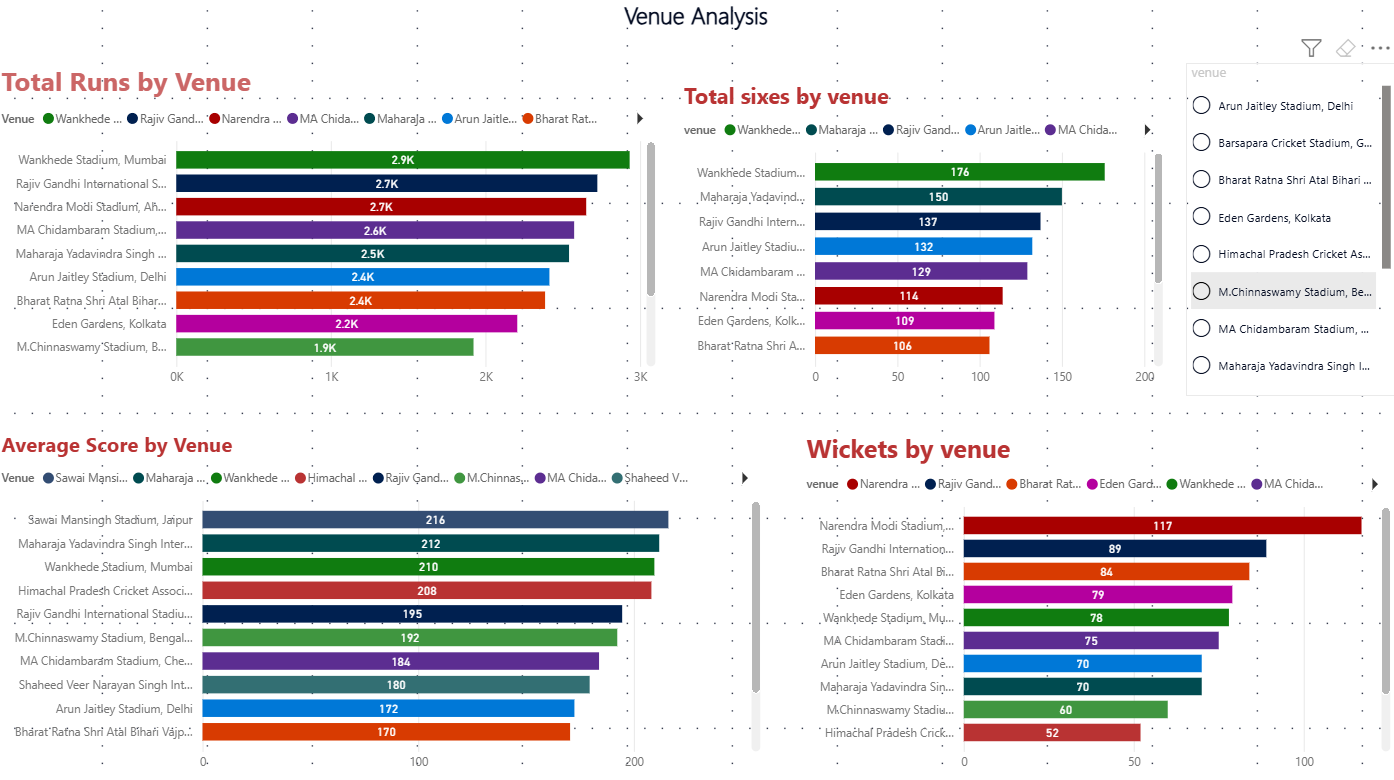

The dashboard page shown, as its layout file describes it:
{"tool":"powerbi","page":{"name":"Venue analysis","canvas":[1280,720],"ordinal":3},"visuals":[{"type":"barChart","title":"Total Runs by Venue","fields":{"Category":["ipl_2026_cleaned.venue"],"Y":["Sum(ipl_2026_cleaned.total_runs)"],"Series":["ipl_2026_cleaned.venue"]},"box":[0,32,624,336],"z":0},{"type":"textbox","box":[0,0,1280,64],"z":1000},{"type":"barChart","title":"Average Score by Venue","fields":{"Category":["ipl_2026_cleaned.venue"],"Y":["ipl_2026_cleaned.Average Innings Score"],"Series":["ipl_2026_cleaned.venue"]},"box":[0,384,736,336],"z":2000},{"type":"listSlicer","fields":{"Values":["ipl_2026_cleaned.venue"]},"box":[1088,64,192,304],"z":3000},{"type":"barChart","title":"Wickets by venue ","fields":{"Category":["ipl_2026_cleaned.venue"],"Y":["Sum(ipl_2026_cleaned.is_wicket)"],"Series":["ipl_2026_cleaned.venue"]},"box":[736,400,544,320],"z":4000},{"type":"barChart","title":"total_sixes by venue","fields":{"Category":["ipl_2026_cleaned.venue"],"Y":["ipl_2026_cleaned.total_sixes"],"Series":["ipl_2026_cleaned.venue"]},"box":[624,80,448,288],"z":5000}]}

Visuals, with their boxes in screenshot pixels (x1, y1, x2, y2), scaled from the page's 1280x720 canvas onto the 1394x780 screenshot:
"Total Runs by Venue" barChart: Rect(0, 35, 680, 399)
textbox: Rect(0, 0, 1393, 69)
"Average Score by Venue" barChart: Rect(0, 416, 802, 779)
listSlicer - ipl_2026_cleaned.venue: Rect(1185, 69, 1393, 399)
"Wickets by venue " barChart: Rect(802, 433, 1393, 779)
"total_sixes by venue" barChart: Rect(680, 87, 1167, 399)
